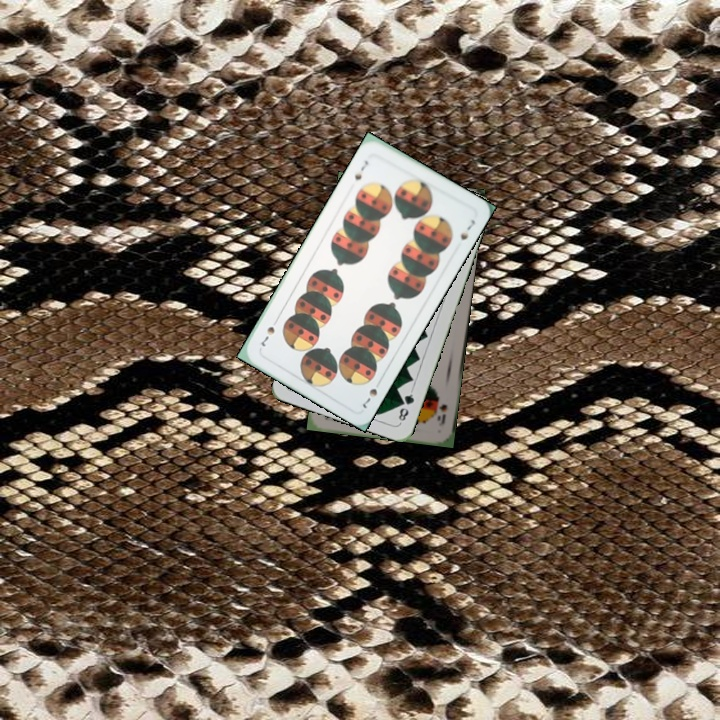G8: (394, 386, 417, 426)
S7: (358, 375, 384, 411), (350, 156, 371, 183)
SO: (433, 392, 449, 428)
